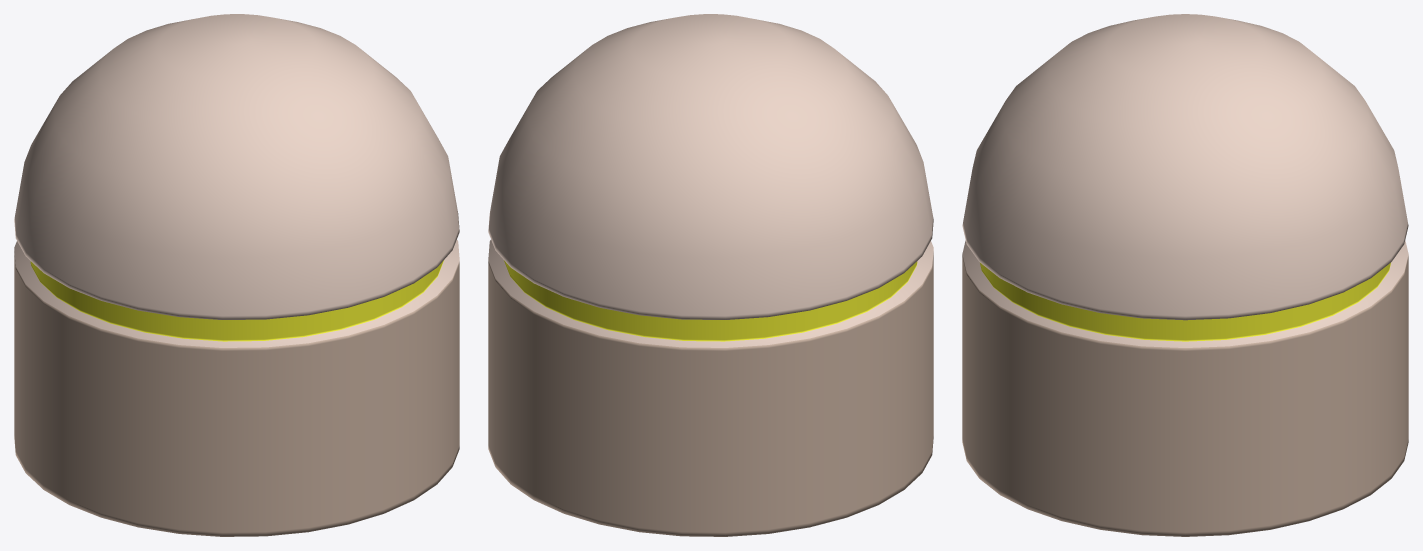
The model's file is CarStopper.fbx.
3 renders of one model, left to right at view 1: azimuth 30°, elevation 25°; view 2: azimuth 150°, elevation 25°; view 3: azimuth 270°, elevation 25°, orthographic.
Visible parts, largest first — view 1: RoadStopper; view 2: RoadStopper; view 3: RoadStopper.
Part boxes in pixels (left/top/right/bottom): RoadStopper: left=14, top=14, right=459, bottom=536; RoadStopper: left=488, top=14, right=933, bottom=536; RoadStopper: left=962, top=14, right=1408, bottom=536.
Size of the model in its own units: 2 by 2 by 2.
